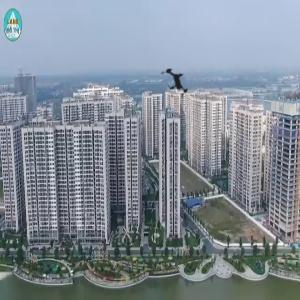drone: (151, 57, 205, 111)
